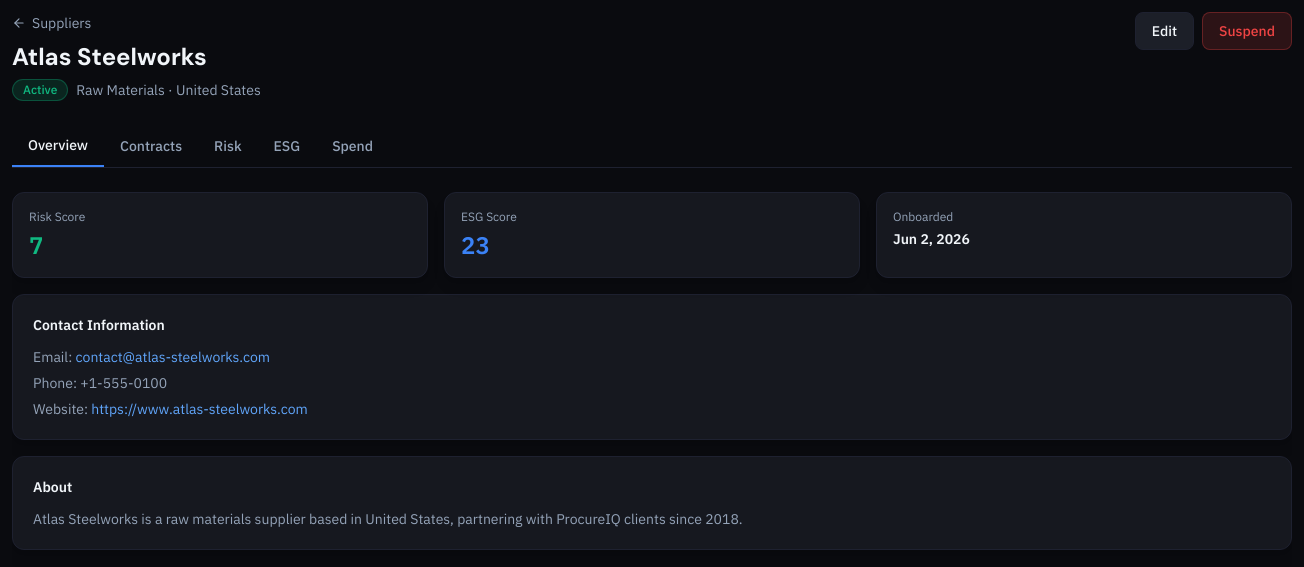
Test: SupplierDetail › Risk tab shows sub-score cards for the supplier
Click the button "Risk": (228,146) [198,125,258,167]
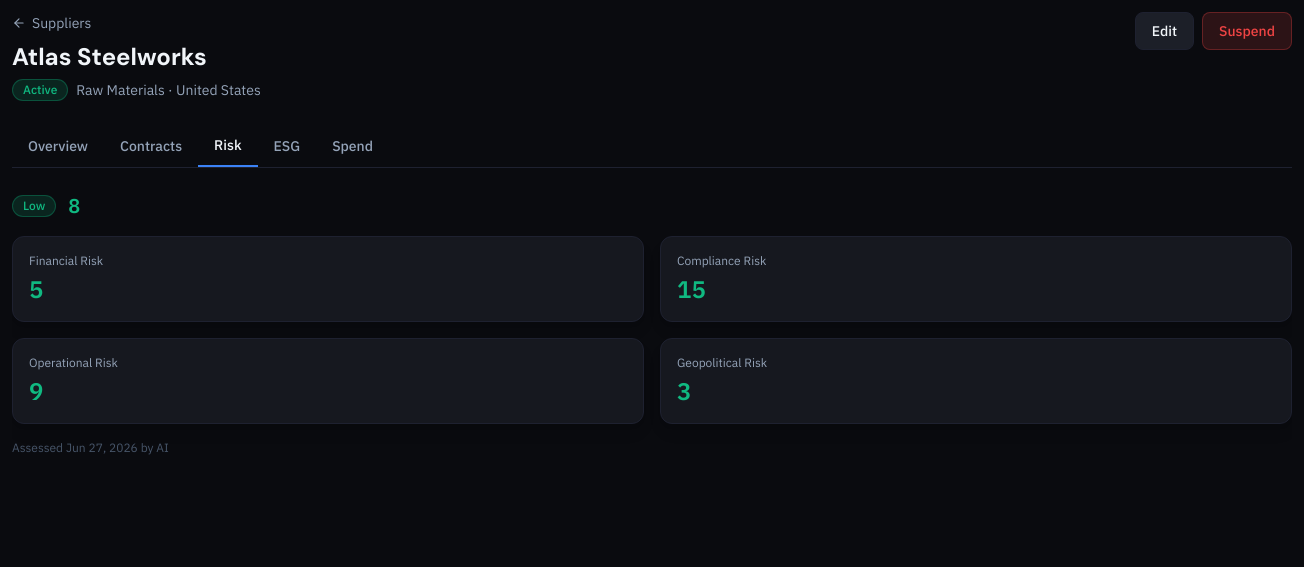
Now the text "Financial Risk" is shown, box [29,253,103,268]
Now the text "Compliance Risk" is shown, box [677,253,766,268]
Now the text "Operational Risk" is shown, box [29,355,118,370]
